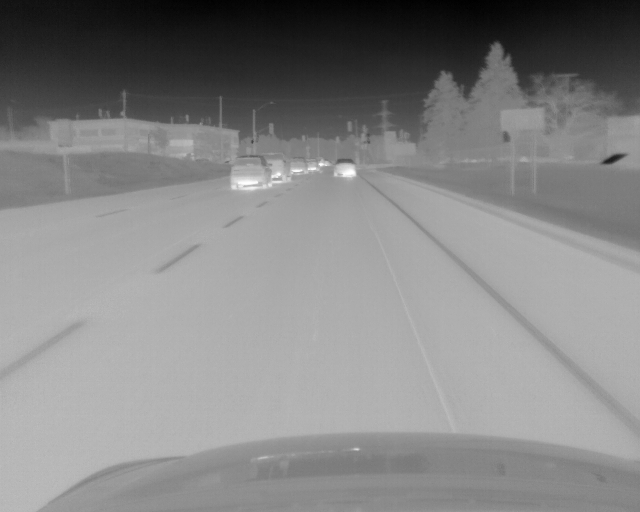car: (230, 156, 273, 189), (262, 153, 290, 181), (333, 158, 357, 177), (289, 156, 307, 174), (308, 157, 317, 172), (318, 156, 325, 166)
